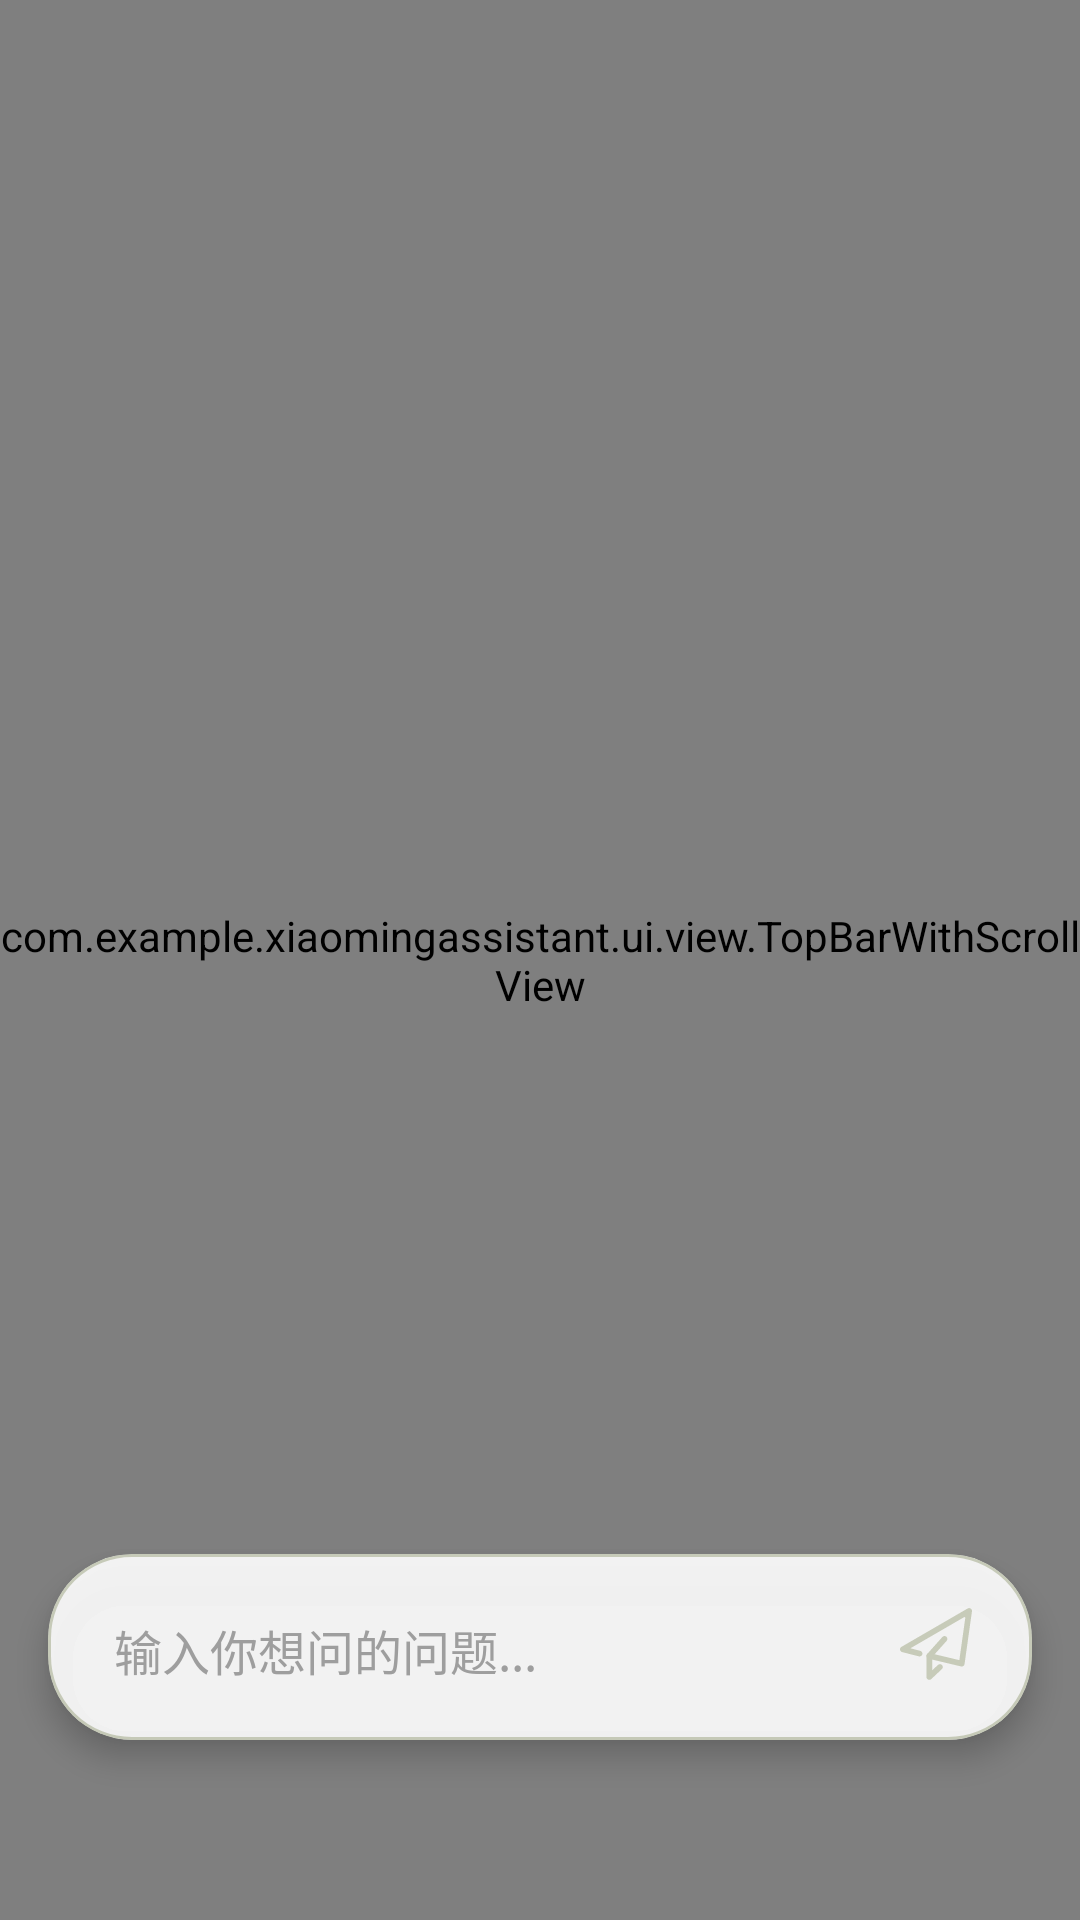

Icons on this 1080w x 1920h Android screen, each with the point to tap as (x=x, y=y):
send: (x=936, y=1644)
